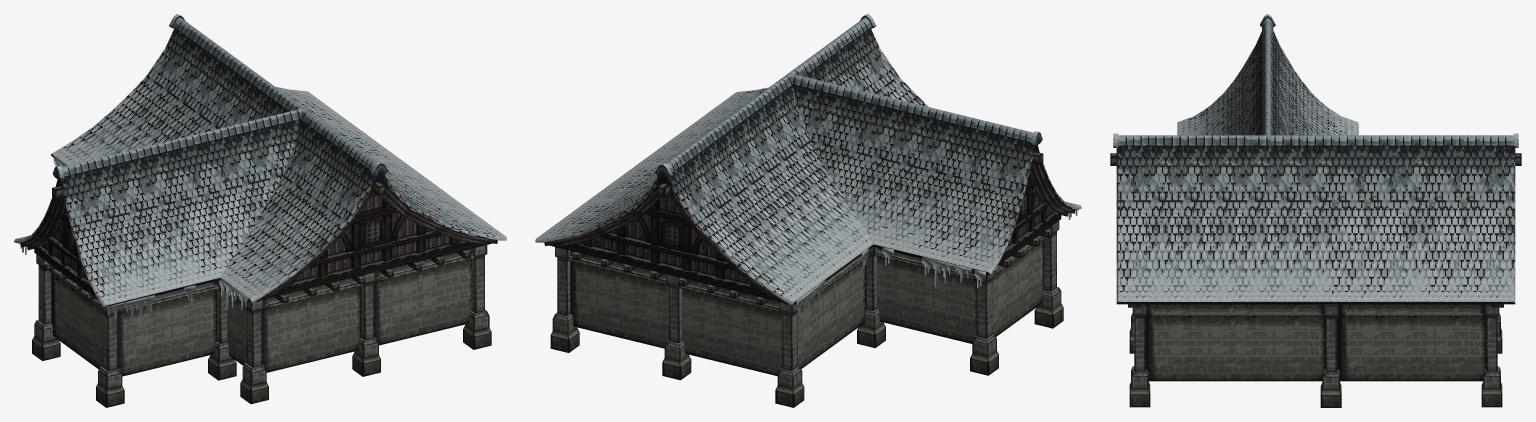
Rendered from EnvBdgMD_SnowHouse_A_Outdoor_House_G.FBX.
The picture shows the model from 3 angles, left to right: view 1: azimuth 30°, elevation 25°; view 2: azimuth 150°, elevation 25°; view 3: azimuth 270°, elevation 25°; orthographic projection.
Parts seen in each view (by area): view 1: EnvBdgMD_SnowHouse_A_Outdoor_House_G; view 2: EnvBdgMD_SnowHouse_A_Outdoor_House_G; view 3: EnvBdgMD_SnowHouse_A_Outdoor_House_G.
Boxes of the visible parts, <box> form: EnvBdgMD_SnowHouse_A_Outdoor_House_G: <box>14,14,506,407</box>; EnvBdgMD_SnowHouse_A_Outdoor_House_G: <box>535,14,1081,407</box>; EnvBdgMD_SnowHouse_A_Outdoor_House_G: <box>1110,14,1521,407</box>.
Bounding box in the file's own units: 1348 × 741 × 1280.
1 material, 1 textured.
